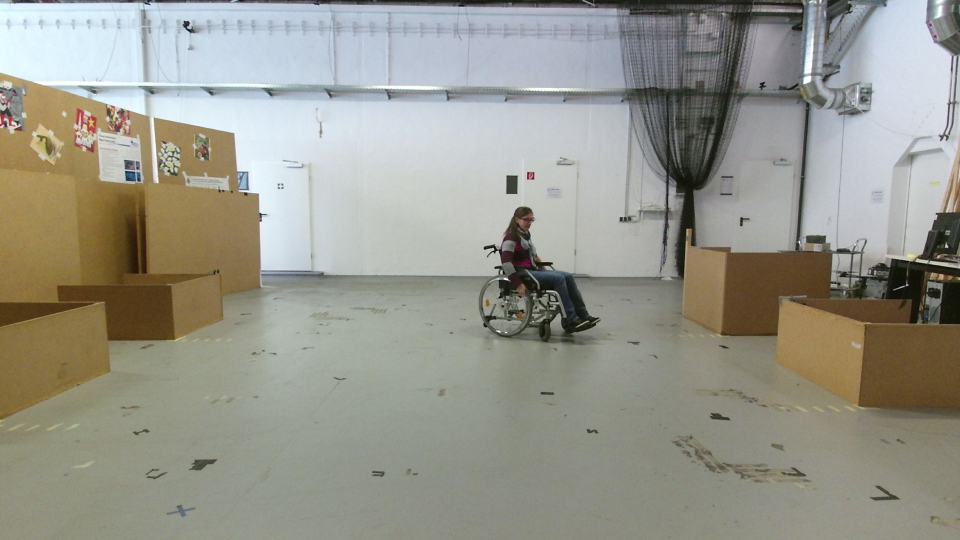wheelchair: (473, 197, 596, 342)
